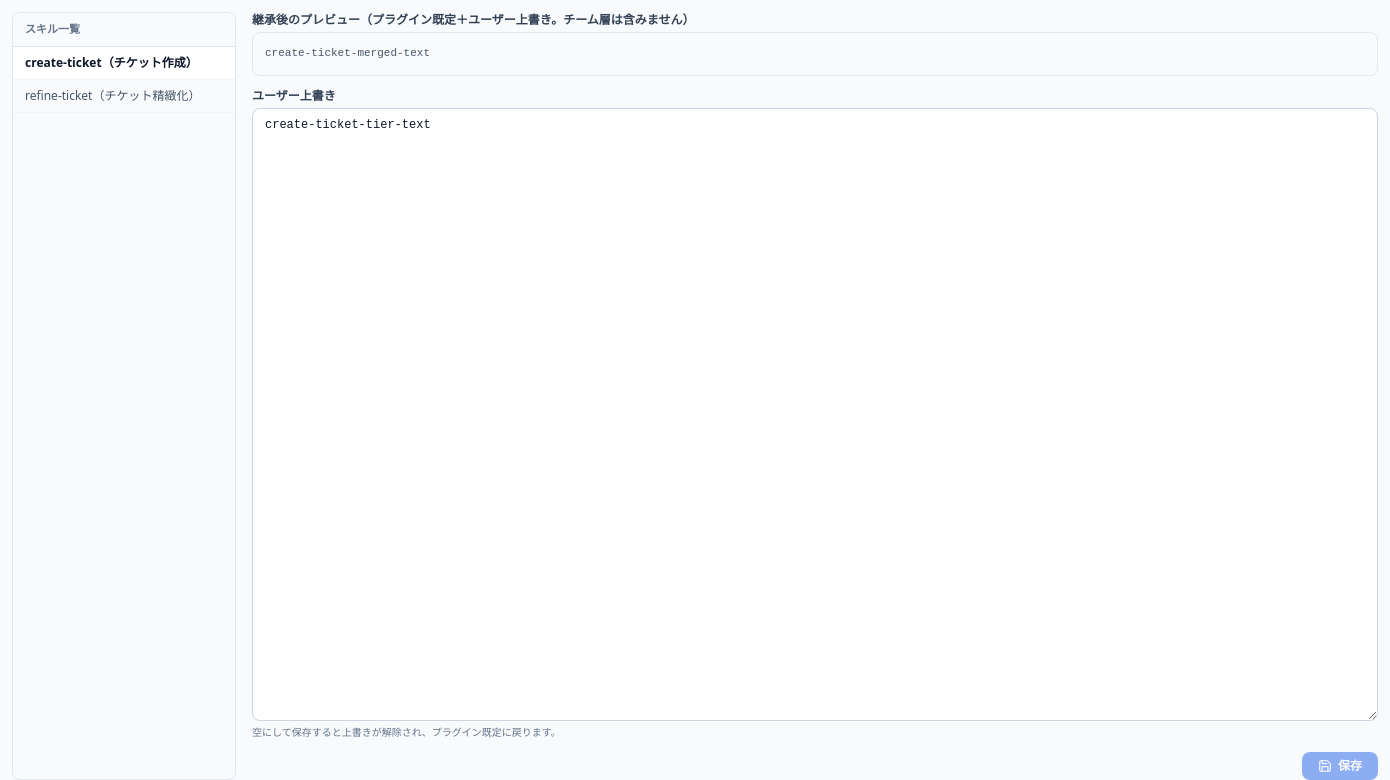
Test: SkillsEditor › #7 non-regression: changing the selection does not re-fetch the skill list
What coordinates should you click on to do the following:
click the button "refine-ticket（チケット精緻化）"
I would click on:
 (124, 96)
Its box is [13,80,235,112].
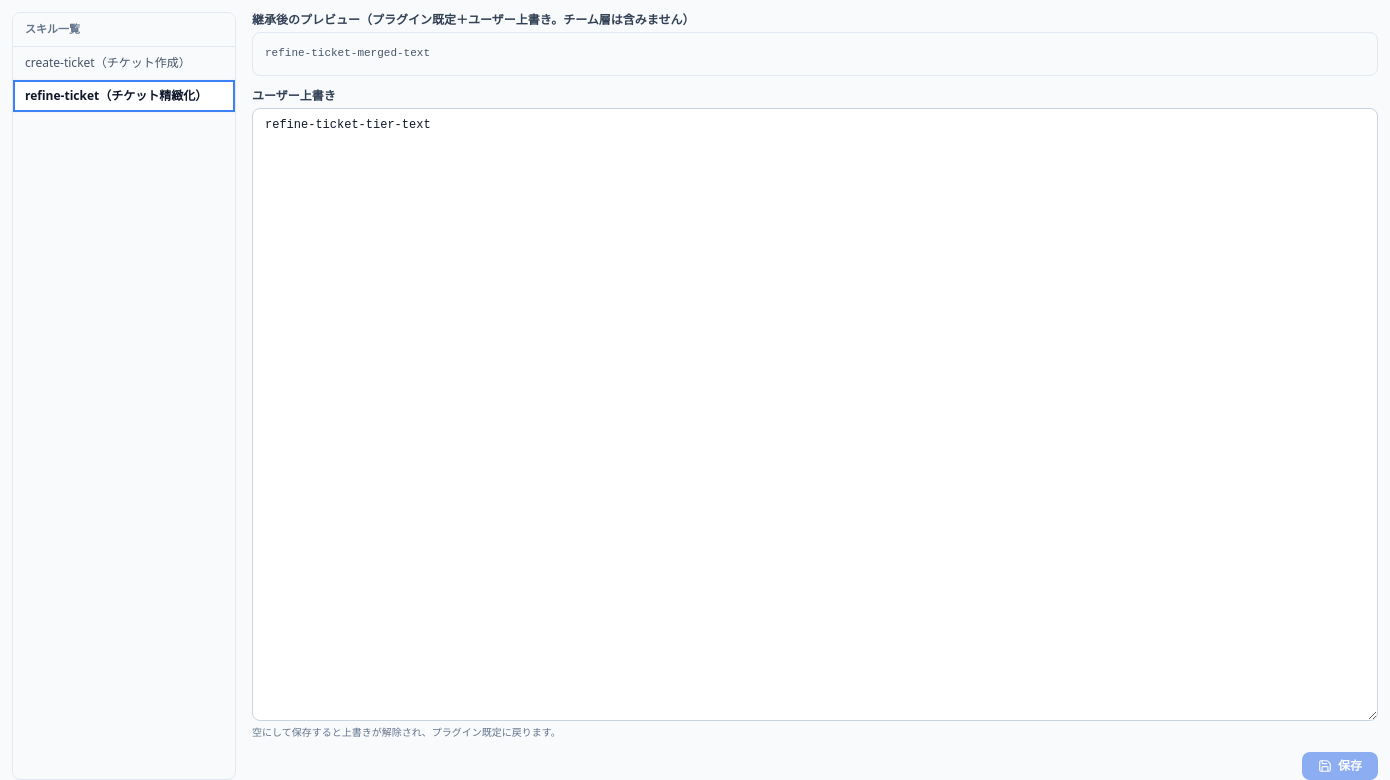
Check: the text box showing "refine-ticket-tier-text" is shown
